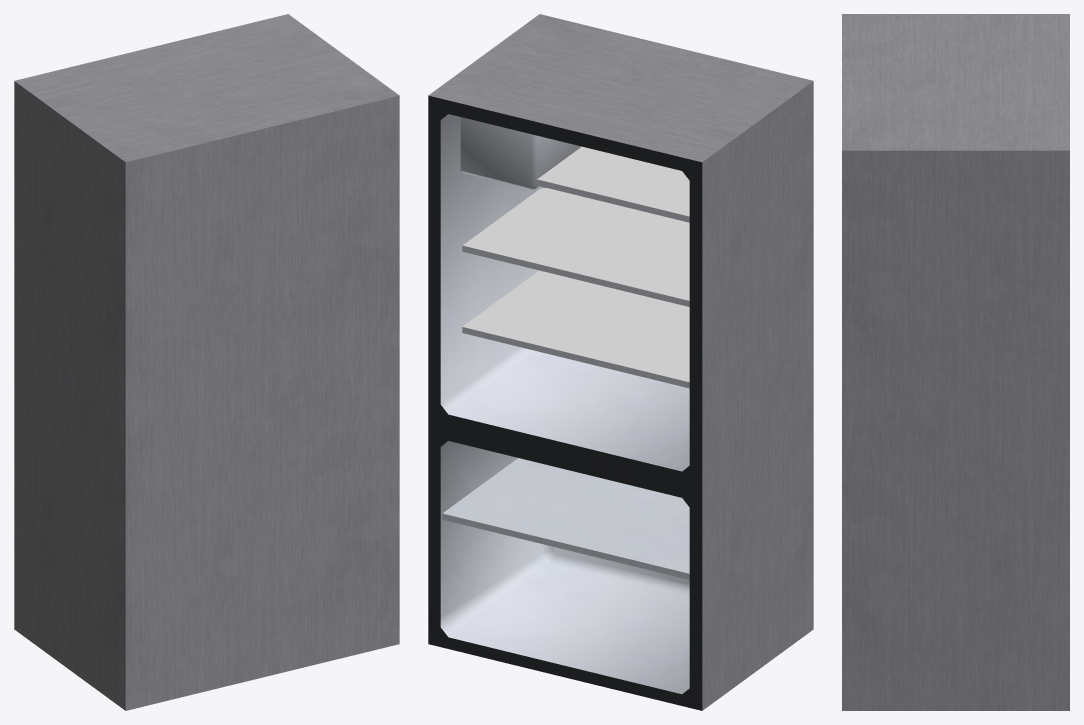
File: Refrigerator_02.glb
3 views of the same model, side by side, from view 1: azimuth 30°, elevation 25°; view 2: azimuth 150°, elevation 25°; view 3: azimuth 270°, elevation 25° (orthographic). The views are drawn at different scales.
Visible parts, largest first — view 1: Refrigerator_02; view 2: Refrigerator_02; view 3: Refrigerator_02.
Part boxes in pixels (<box>): Refrigerator_02: <box>14,14,399,710</box>; Refrigerator_02: <box>428,14,813,710</box>; Refrigerator_02: <box>842,14,1069,710</box>.
Size of the model in its own units: 1.11 by 2.13 by 0.7848.
4 materials, 3 textured.
